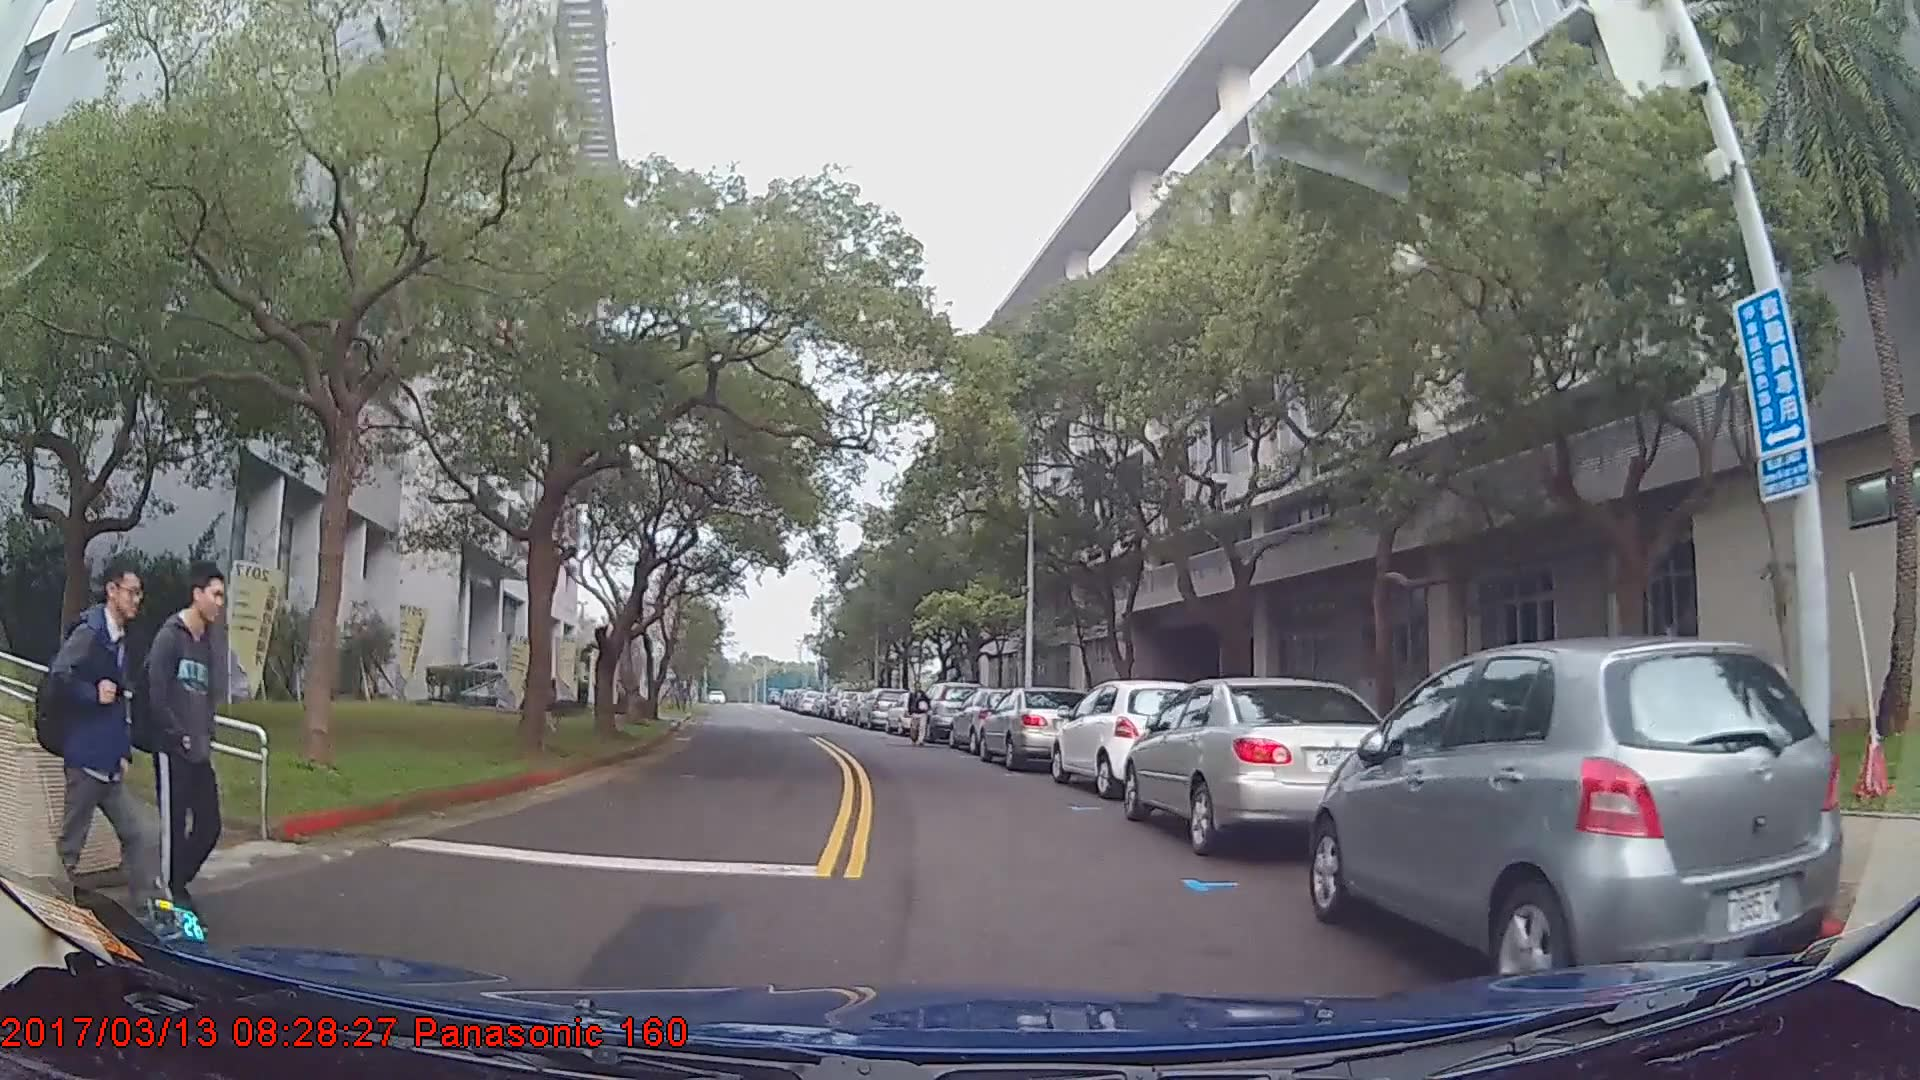pedestrian: (44, 556, 191, 952), (134, 556, 232, 941), (905, 675, 932, 745)
vehicle: (1311, 631, 1843, 1002), (1122, 675, 1406, 854), (1053, 676, 1207, 800), (978, 683, 1086, 768), (945, 686, 1042, 756), (918, 679, 977, 742), (859, 685, 908, 729)
